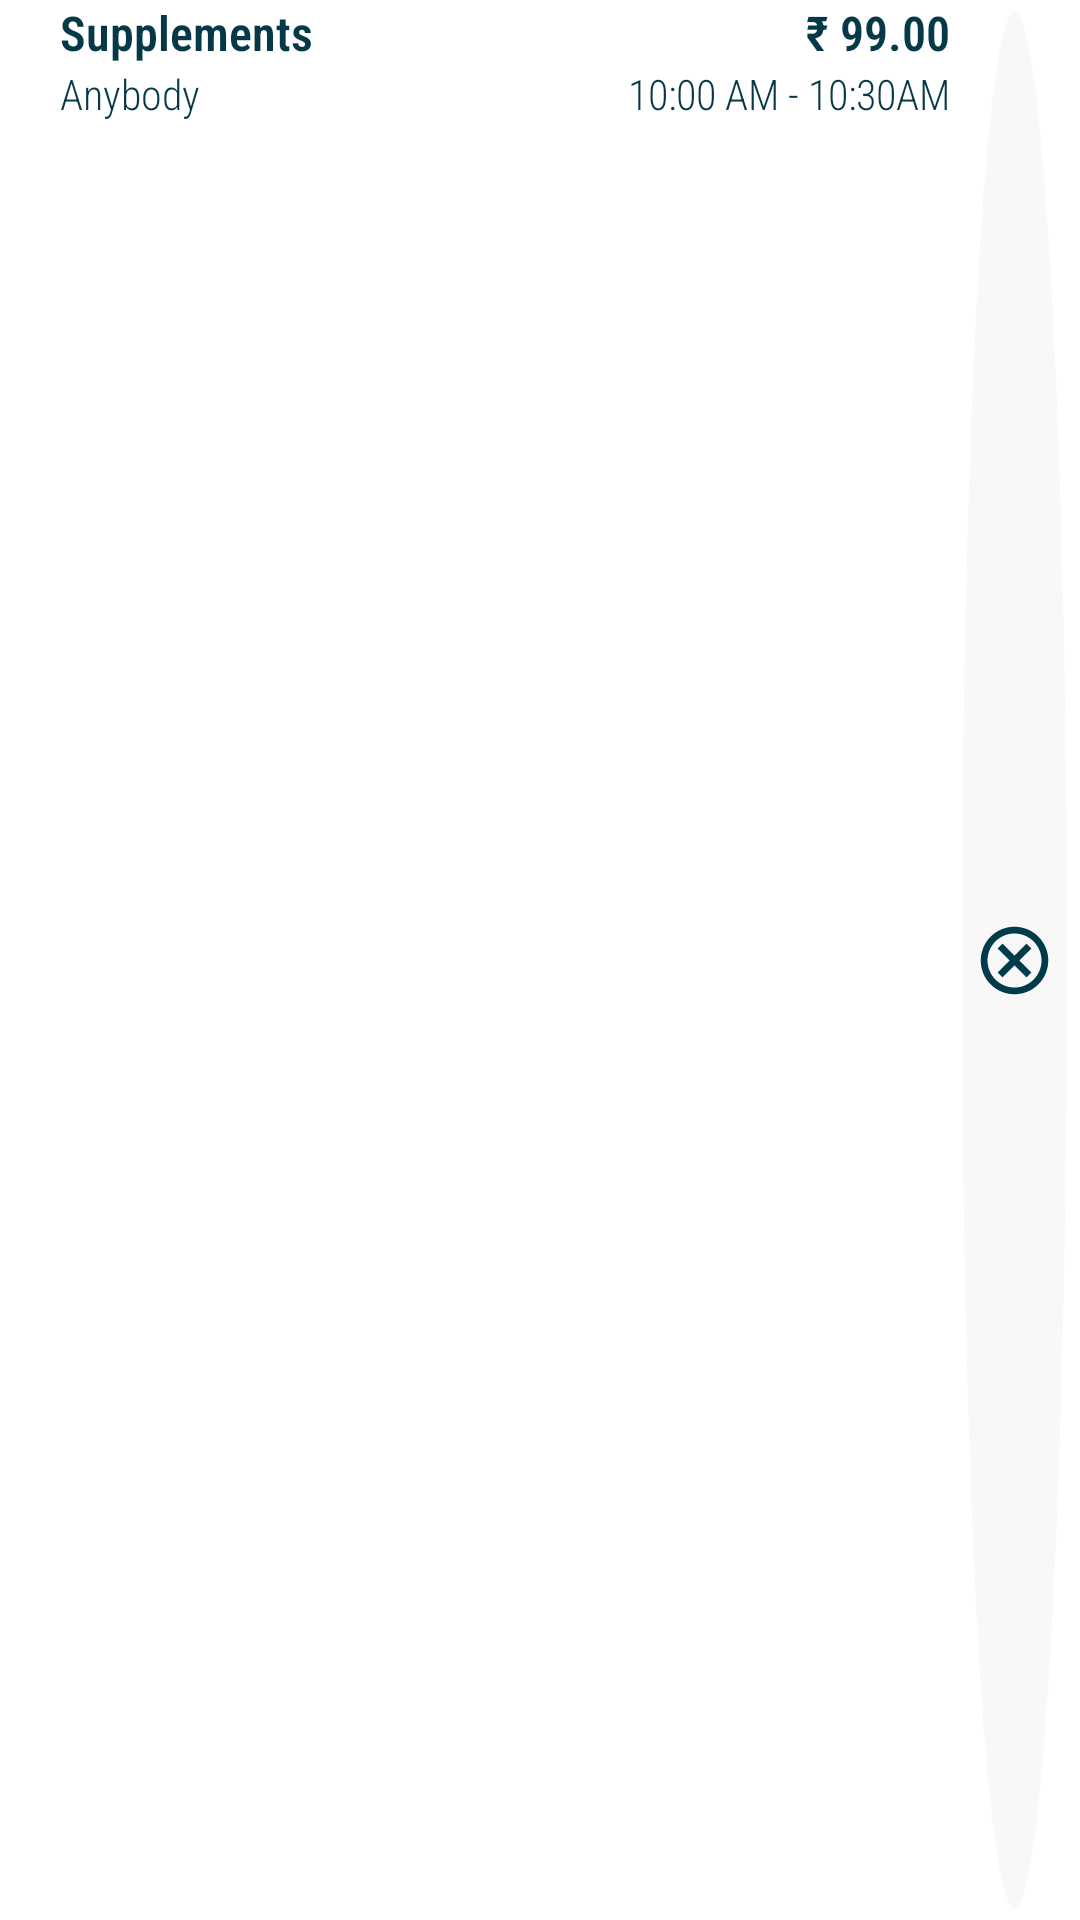

Icon click points for this 1080px×1920px phone screenshot, format (x,y):
cancel: (1014,960)
